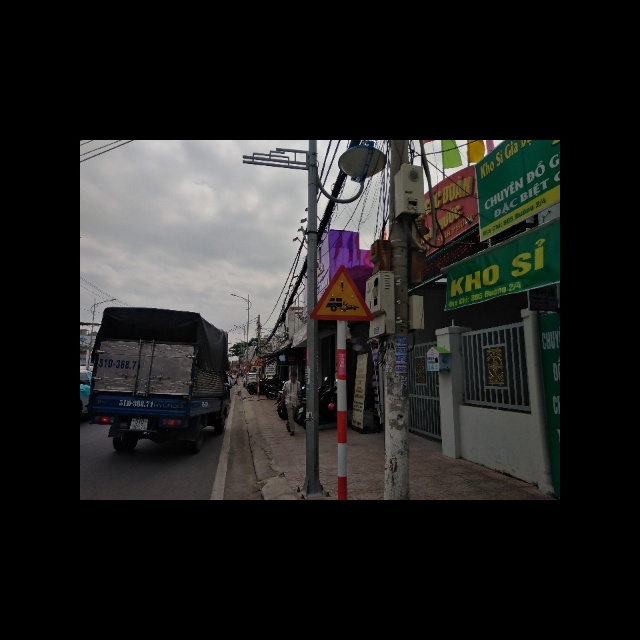Đoạn đường hay xảy ra tai nạn: (308, 264, 373, 322)
Đường đôi: (252, 355, 264, 366)
